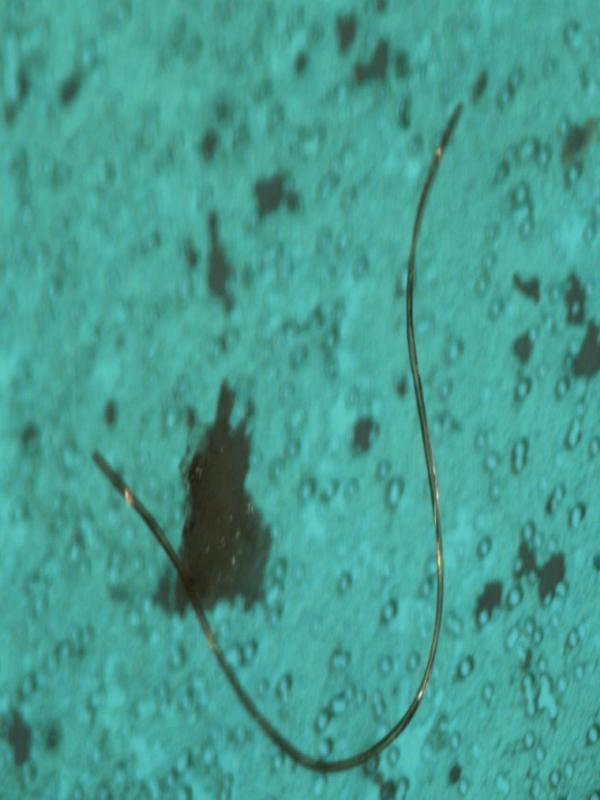microplastic: (92, 95, 465, 775)
